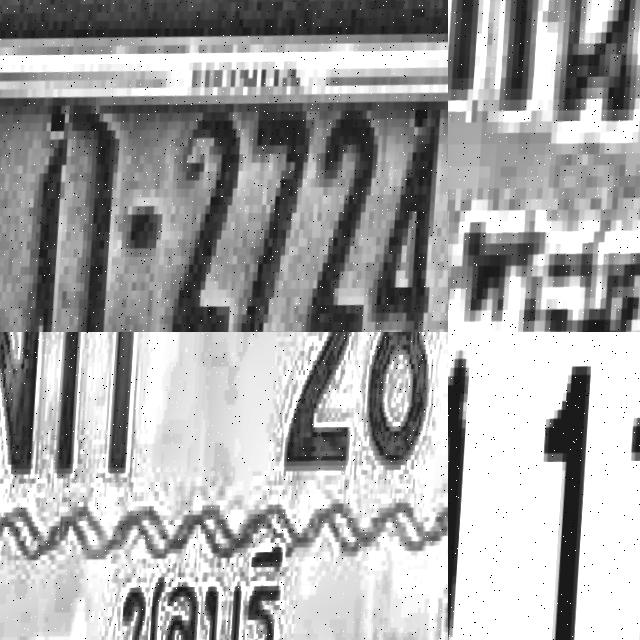license-plate: (0, 0, 448, 332), (0, 332, 448, 640), (448, 0, 640, 332), (448, 332, 640, 640)
